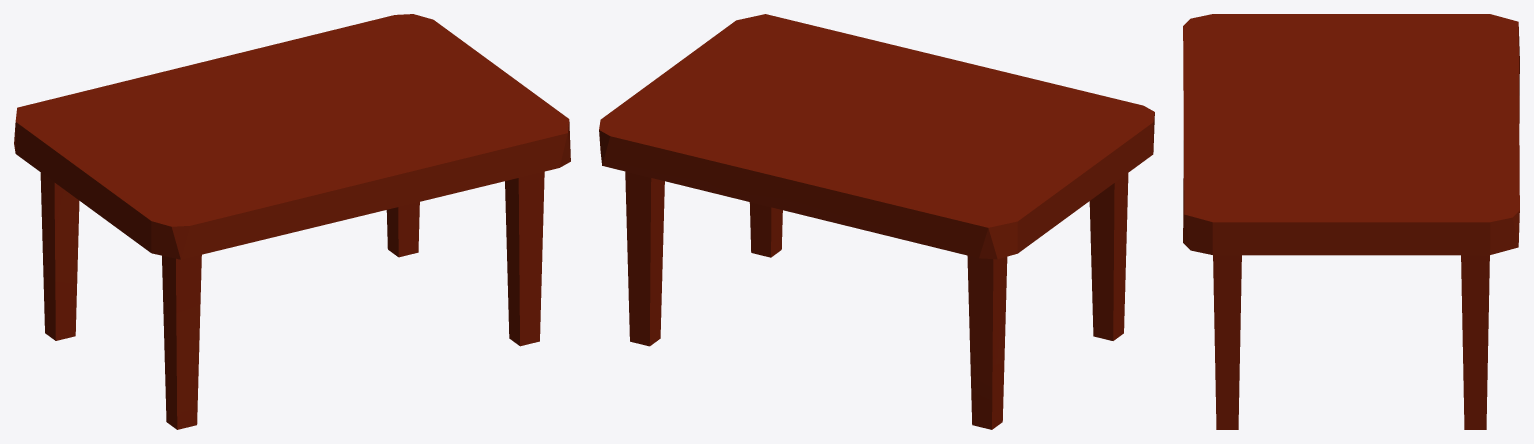
Rendered from Dining Table.fbx.
3 views of the same model, side by side, from view 1: azimuth 30°, elevation 25°; view 2: azimuth 150°, elevation 25°; view 3: azimuth 270°, elevation 25° (orthographic). The views are drawn at different scales.
Parts seen in each view (by area): view 1: Cube; view 2: Cube; view 3: Cube.
Boxes of the visible parts, left/top/right/bottom form: Cube: left=14, top=14, right=570, bottom=429; Cube: left=599, top=14, right=1154, bottom=429; Cube: left=1183, top=14, right=1519, bottom=429.
Bounding box in the file's own units: 463 × 230 × 316.
